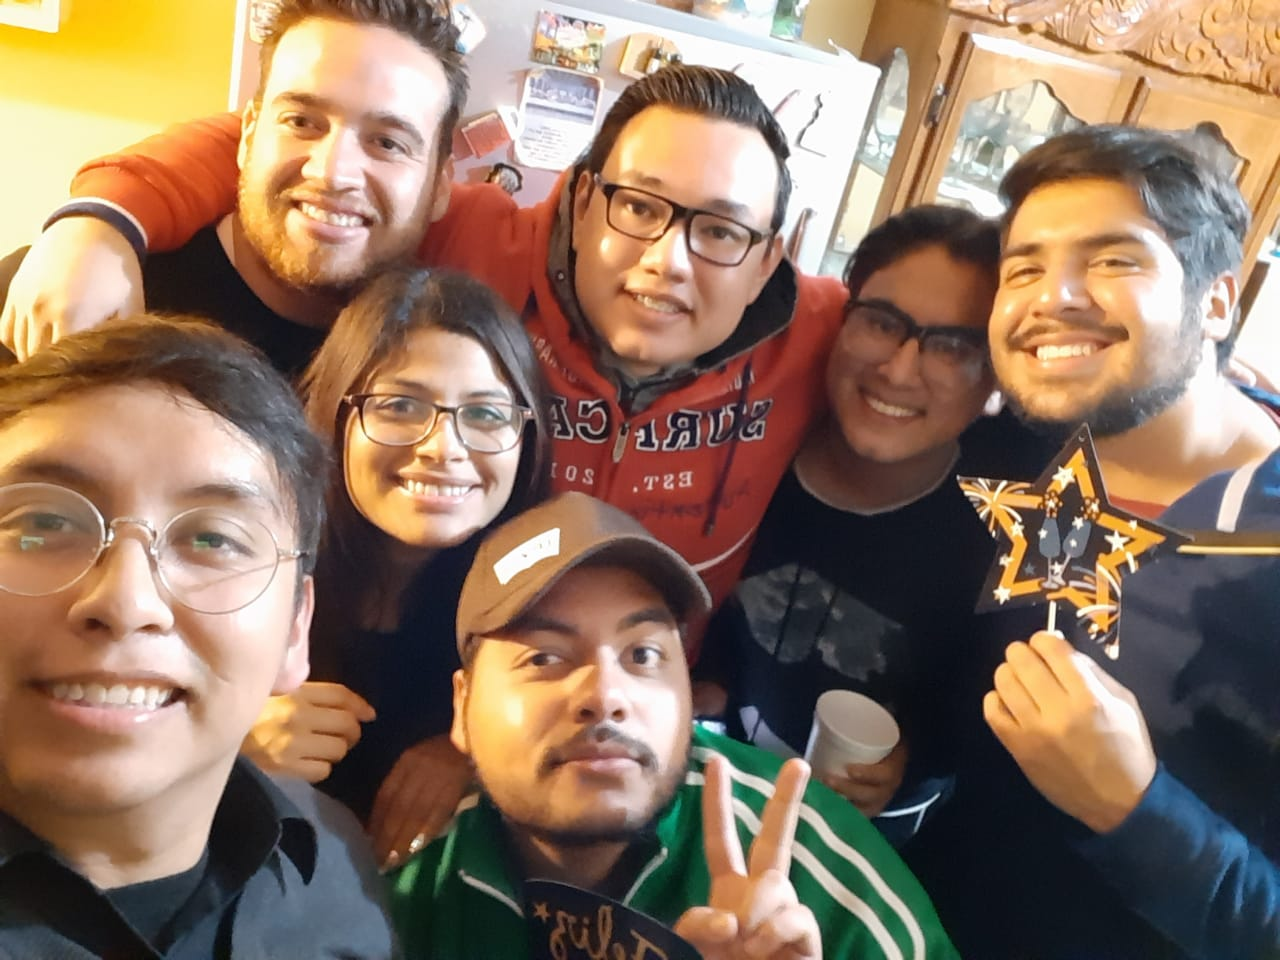Yoshi: (447, 502, 789, 880)
